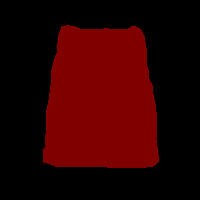mutande: (42, 25, 159, 168)
